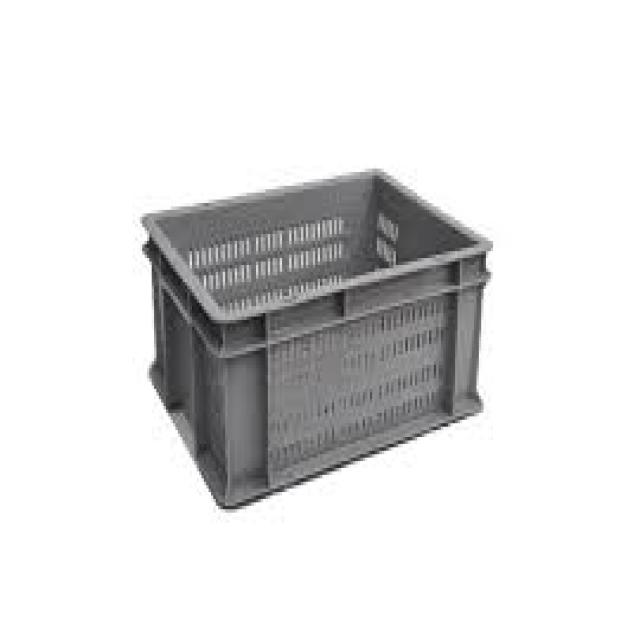basket: (96, 102, 547, 518)
